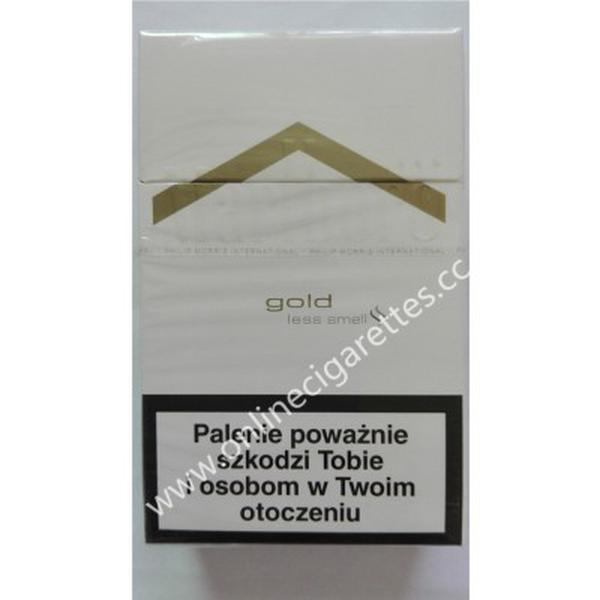marlboro_gold: (142, 39, 460, 546)
